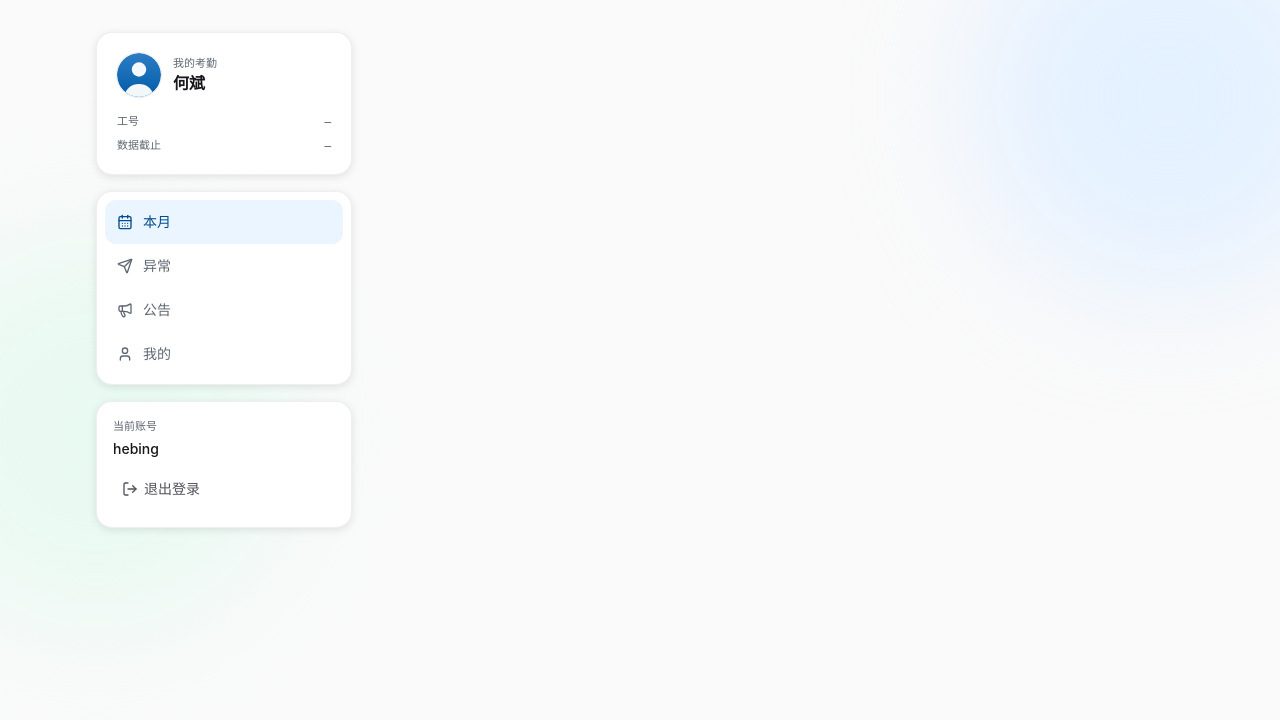
Scenario: 员工门户状态细节（qa-2 / qa-4 / qa-5 / qa-7 / qa-18） › 同一天已有待审补卡：不再给「对此提异议」
Click the button "异常" at (224, 266), box [105,244,343,288]
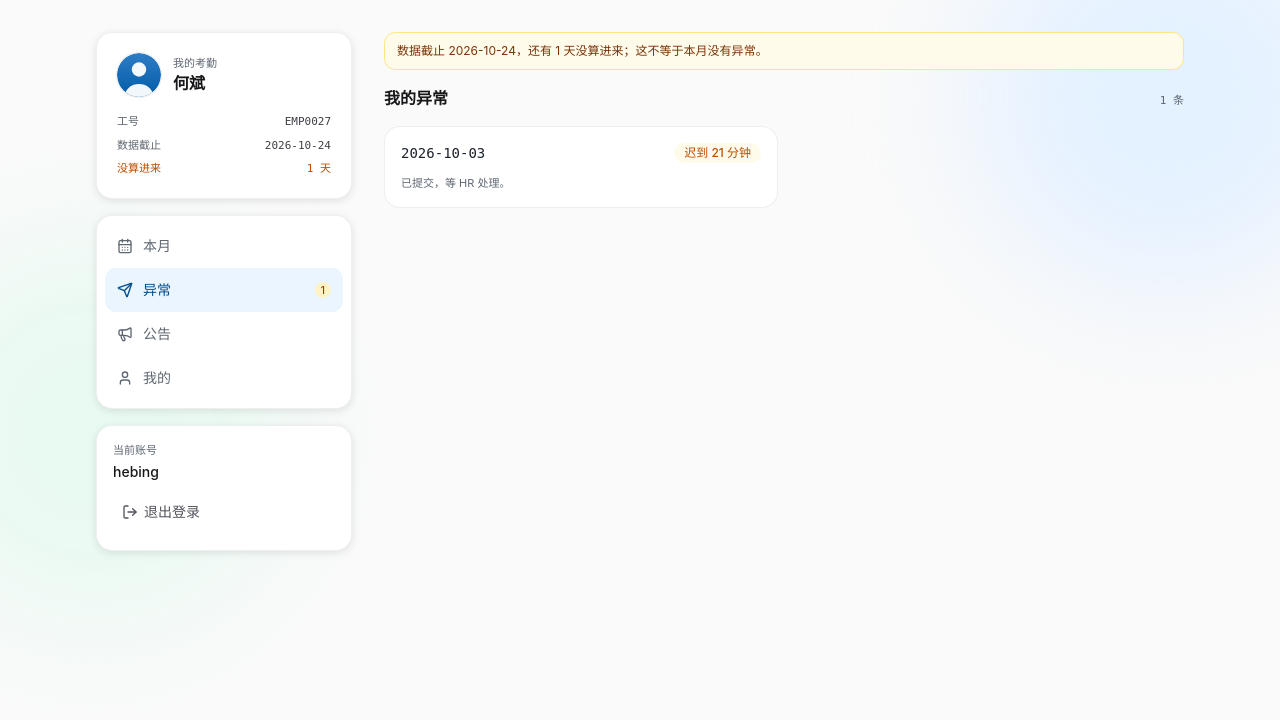
Now the text "已提交，等 HR 处理。" is shown, box [401,176,510,190]
